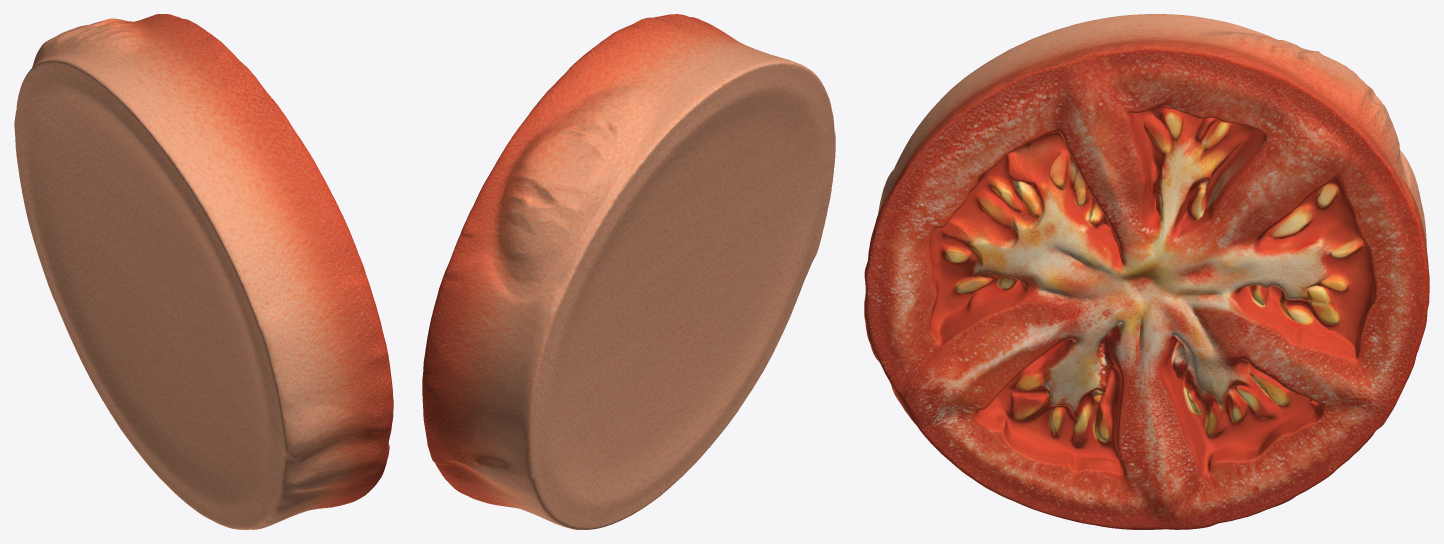
The model's file is tomato.glb.
The picture shows the model from 3 angles, left to right: view 1: azimuth 30°, elevation 25°; view 2: azimuth 150°, elevation 25°; view 3: azimuth 270°, elevation 25°; orthographic projection. The views are drawn at different scales.
Parts seen in each view (by area): view 1: tripo_node_4e19b679-8efd-4b4f-9a02-779bb3dbff82; view 2: tripo_node_4e19b679-8efd-4b4f-9a02-779bb3dbff82; view 3: tripo_node_4e19b679-8efd-4b4f-9a02-779bb3dbff82.
Boxes of the visible parts, x1,y1,x2,y2 form: tripo_node_4e19b679-8efd-4b4f-9a02-779bb3dbff82: (14, 14, 393, 529); tripo_node_4e19b679-8efd-4b4f-9a02-779bb3dbff82: (422, 14, 835, 529); tripo_node_4e19b679-8efd-4b4f-9a02-779bb3dbff82: (864, 14, 1429, 529).
Size of the model in its own units: 0.3773 by 0.8948 by 1.
1 material, 1 textured.
